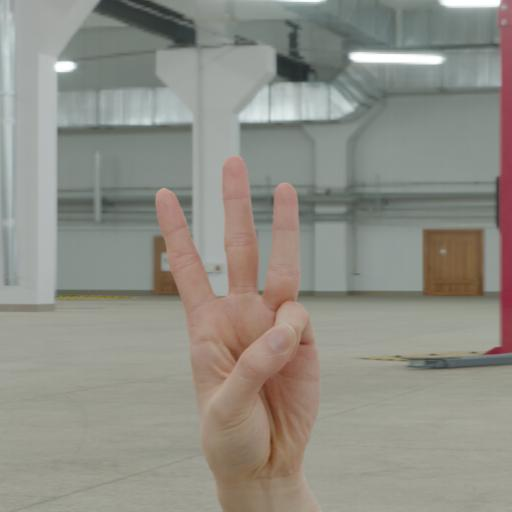W: (124, 147, 381, 490)
